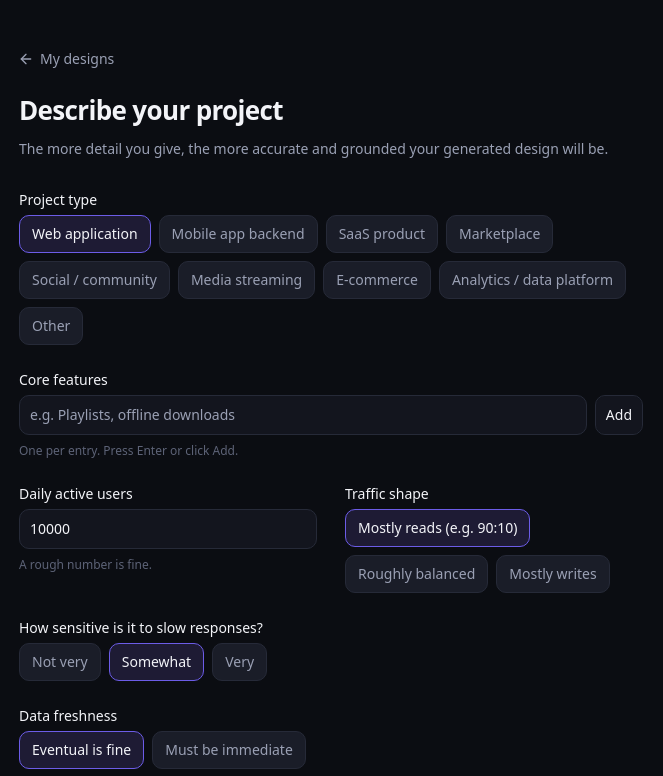
Test case: requirement intake form › asks what "other" means before submitting
The width and height of the screenshot is (663, 776).
Click the radio button labelled "Other" at (51, 326), box [19,307,83,345]
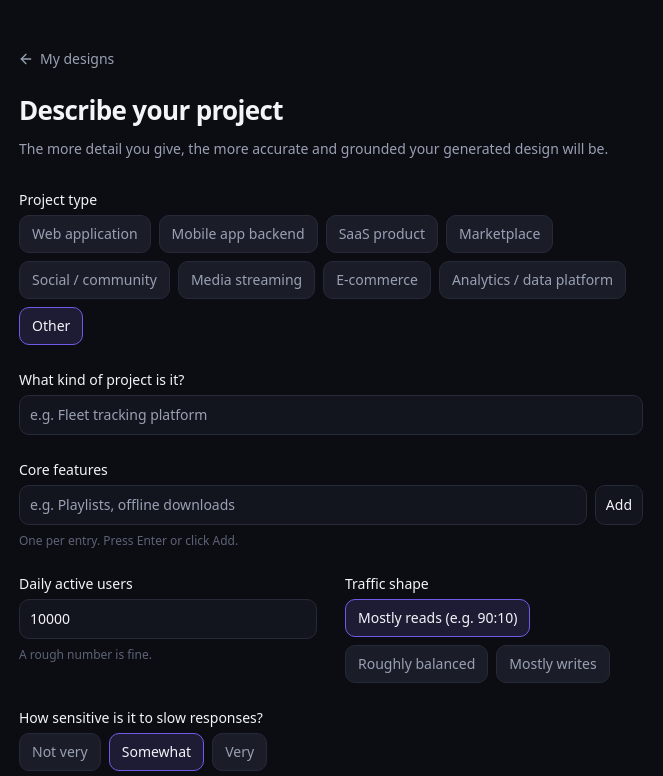
Type "tracking" into the field labelled "Core features" at (303, 505), box [19,485,587,525]
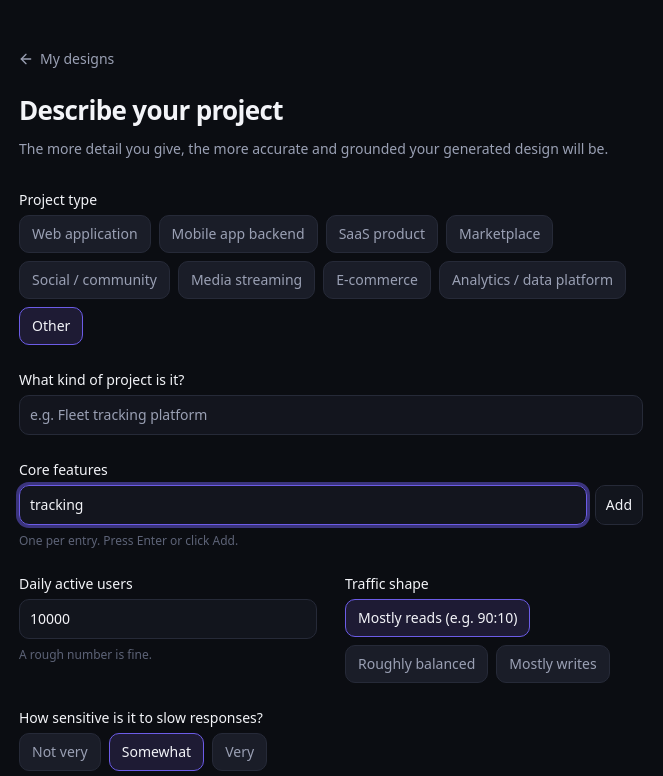
Click the button "Add" at (619, 505), box [595,485,643,525]
(page scrolled)
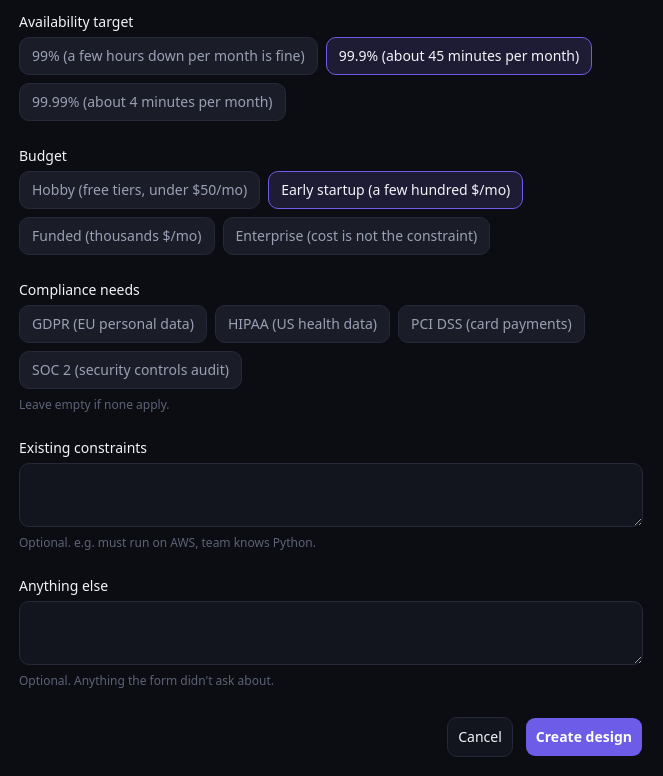
Click the button "Create design" at (584, 737), box [525,717,643,757]
(page scrolled)
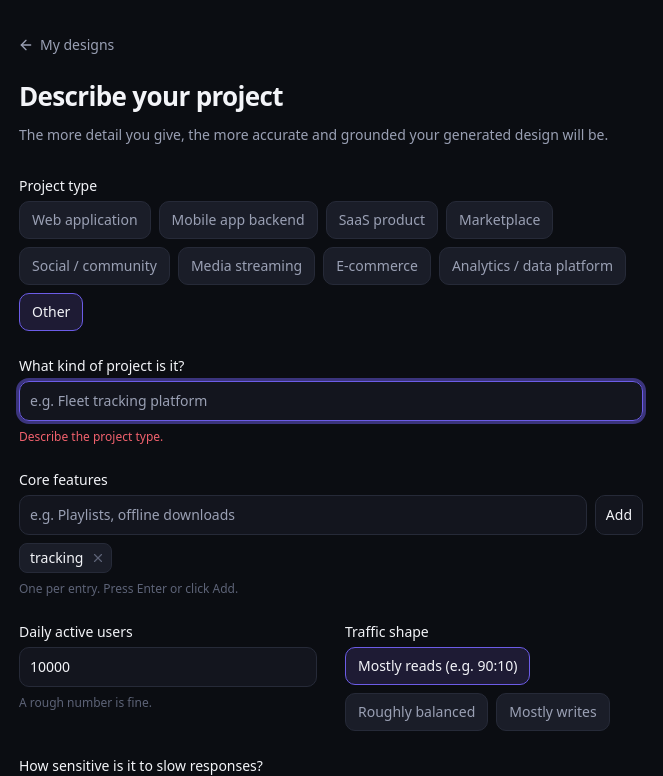
expect the text "Describe the project type." is shown: met, box [19,428,163,445]
